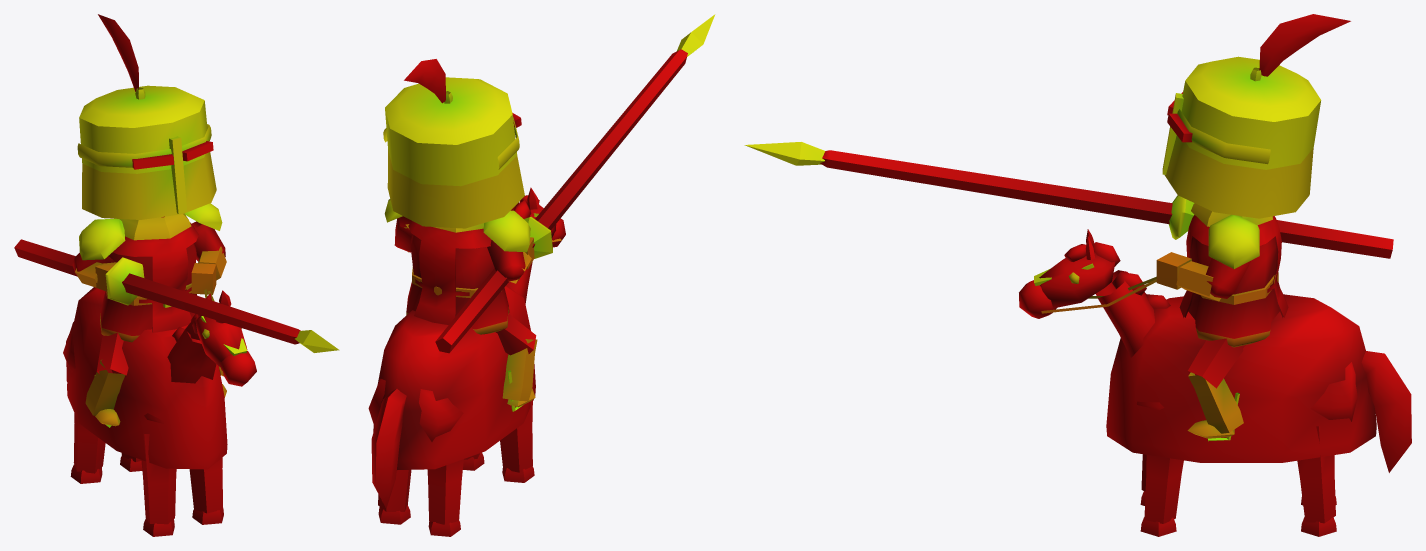
File: Cavalier_LOD1.glb
The picture shows the model from 3 angles, left to right: view 1: azimuth 30°, elevation 25°; view 2: azimuth 150°, elevation 25°; view 3: azimuth 270°, elevation 25°; orthographic projection. The views are drawn at different scales.
Visible parts, largest first — view 1: Cavalier_LOD1; view 2: Cavalier_LOD1; view 3: Cavalier_LOD1.
Part boxes in pixels (box(x1,y1,x2,y2)): Cavalier_LOD1: box(14, 14, 339, 536); Cavalier_LOD1: box(368, 14, 715, 536); Cavalier_LOD1: box(744, 14, 1411, 536).
Bounding box in the file's own units: 0.4846 × 1.48 × 1.79.
